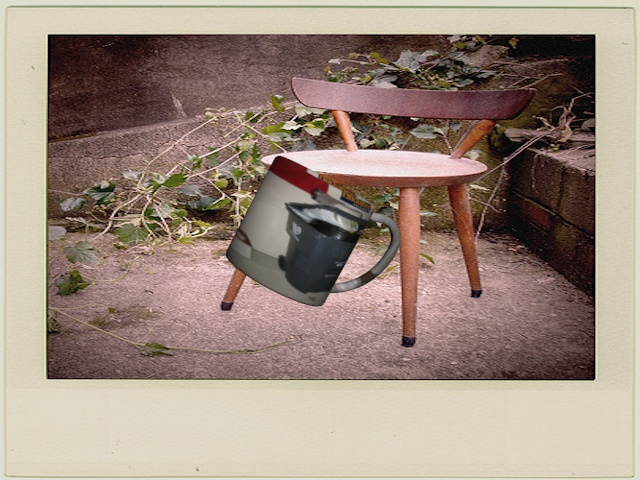mug: (224, 144, 408, 320)
